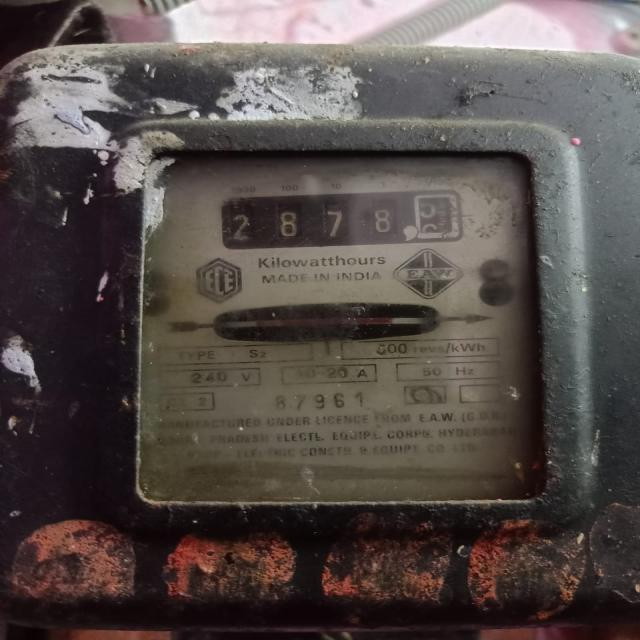display: (200, 193, 485, 253)
